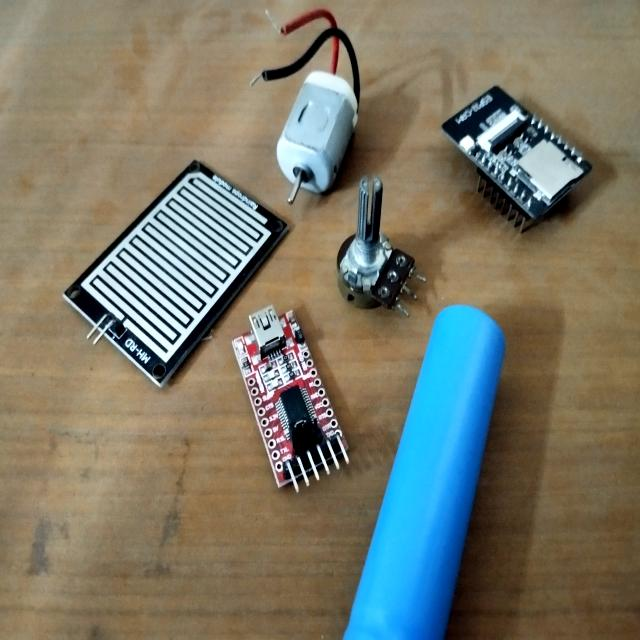3-3-Volt-Battery: (333, 291, 521, 640)
DC-Motor: (263, 56, 364, 216)
ESP32-CAM: (427, 68, 594, 248)
FT-232-USB-Serial-Module: (211, 292, 362, 514)
Raindrops-Module: (49, 146, 292, 391)
Taper-Potentiometer: (329, 159, 434, 326)
